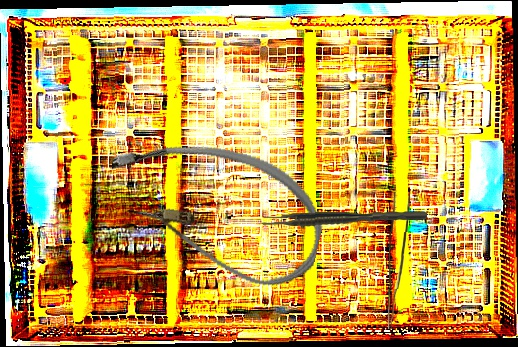Cannula: (93, 125, 335, 296)
Tissue Forceps: (387, 191, 411, 330), (260, 210, 428, 228)
